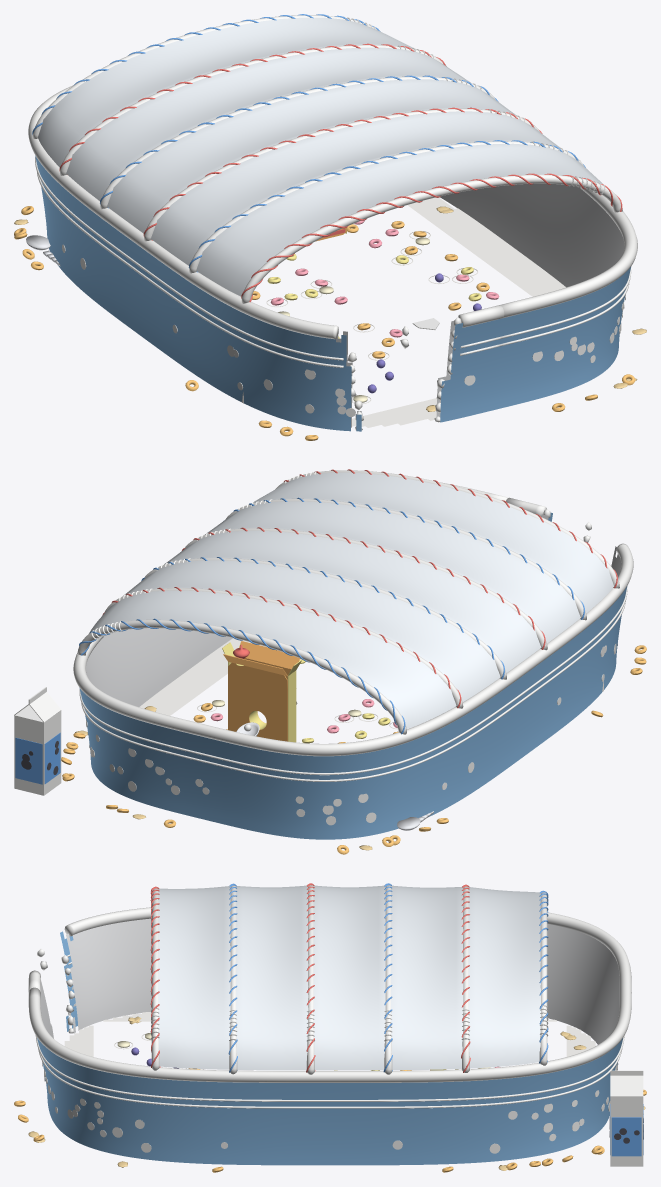
Rendered from CerealBowlCage.fbx.
3 renders of one model, top to bottom at view 1: azimuth 30°, elevation 25°; view 2: azimuth 150°, elevation 25°; view 3: azimuth 270°, elevation 25°, orthographic. The views are drawn at different scales.
Visible parts, largest first — view 1: BowlFilm, BowlWall, BowlInside, BowlStraws, BowlRim, BowlMilk, BowlStripe, BowlStrawStripes, BowlStrawStripesBlue, BowlDots, BowlSpilledLoops, BowlLoopsA (+2 smaller); view 2: BowlFilm, BowlWall, BowlStraws, BowlRim, BowlInside, BowlBox, BowlStripe, BowlCarton, BowlMilk, BowlStrawStripesBlue, BowlCartonBlue, BowlDots (+3 smaller); view 3: BowlFilm, BowlWall, BowlInside, BowlRim, BowlStraws, BowlStripe, BowlCarton, BowlDots, BowlMilk, BowlStrawStripes, BowlStrawStripesBlue, BowlCartonBlue (+2 smaller).
Part boxes in pixels (left/top/right/bottom): BowlFilm: left=38, top=17, right=603, bottom=296; BowlWall: left=35, top=155, right=631, bottom=431; BowlInside: left=336, top=183, right=624, bottom=427; BowlStraws: left=32, top=15, right=622, bottom=303; BowlRim: left=28, top=85, right=637, bottom=430; BowlMilk: left=352, top=197, right=565, bottom=427; BowlStripe: left=35, top=157, right=631, bottom=367; BowlStrawStripes: left=59, top=43, right=622, bottom=302; BowlStrawStripesBlue: left=32, top=14, right=585, bottom=272; BowlDots: left=45, top=216, right=625, bottom=417; BowlSpilledLoops: left=14, top=206, right=635, bottom=440; BowlLoopsA: left=252, top=221, right=489, bottom=358; BowlFilm: left=89, top=472, right=614, bottom=728; BowlWall: left=79, top=512, right=627, bottom=839; BowlStraws: left=77, top=470, right=619, bottom=734; BowlRim: left=73, top=482, right=633, bottom=756; BowlInside: left=86, top=514, right=621, bottom=706; BowlBox: left=223, top=641, right=299, bottom=741; BowlStripe: left=79, top=587, right=627, bottom=781; BowlCarton: left=14, top=687, right=61, bottom=795; BowlMilk: left=139, top=638, right=264, bottom=715; BowlStrawStripesBlue: left=79, top=497, right=584, bottom=734; BowlCartonBlue: left=15, top=732, right=60, bottom=784; BowlDots: left=86, top=643, right=617, bottom=825; BowlFilm: left=158, top=885, right=540, bottom=1070; BowlWall: left=37, top=931, right=623, bottom=1165; BowlInside: left=40, top=918, right=619, bottom=1044; BowlRim: left=28, top=907, right=631, bottom=1082; BowlStraws: left=151, top=885, right=548, bottom=1074; BowlStripe: left=35, top=954, right=624, bottom=1108; BowlCarton: left=610, top=1070, right=643, bottom=1166; BowlDots: left=42, top=987, right=618, bottom=1153; BowlMilk: left=64, top=1012, right=595, bottom=1056; BowlStrawStripes: left=150, top=883, right=470, bottom=1072; BowlStrawStripesBlue: left=228, top=883, right=548, bottom=1072; BowlCartonBlue: left=610, top=1104, right=643, bottom=1156.
Bounding box in the file's own units: 1095 × 448 × 1633.
